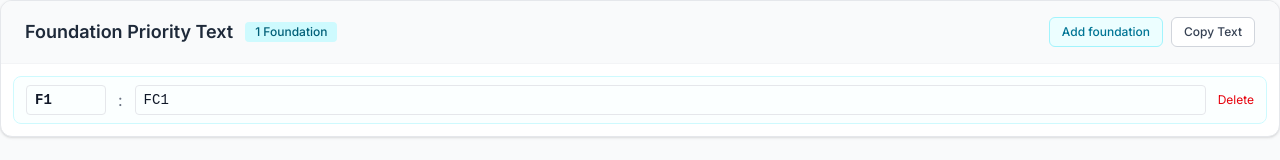
Scenario: FoundationPriorityTextResult copy › confirms the copy when the clipboard accepts it
Click the button "Copy Text": point(1213, 32) 1171,17 -> 1255,47
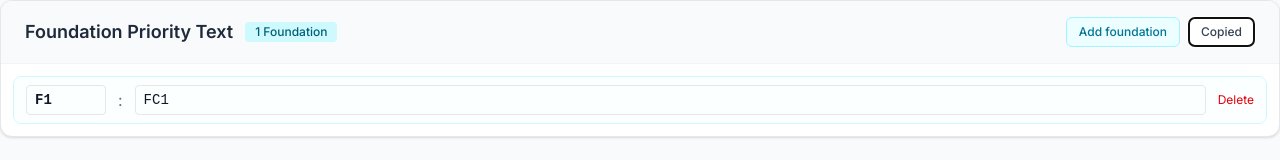
Check: the button "Copied" is shown, box 1188,17 -> 1255,47
